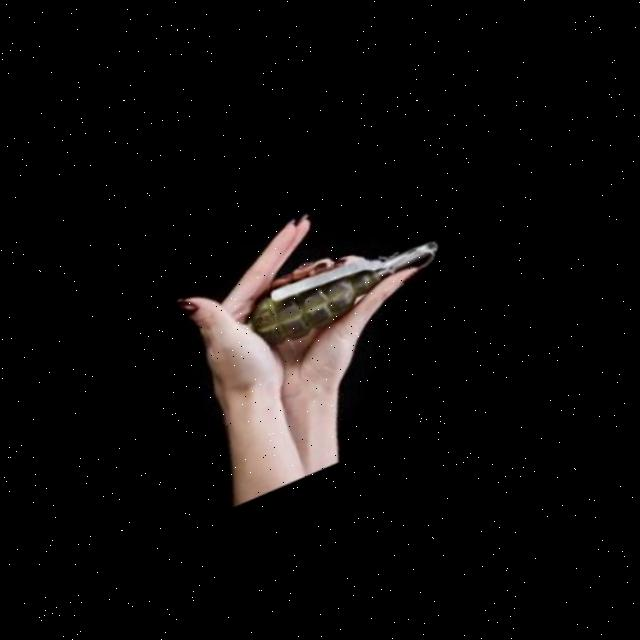grenade: (228, 203, 462, 368)
